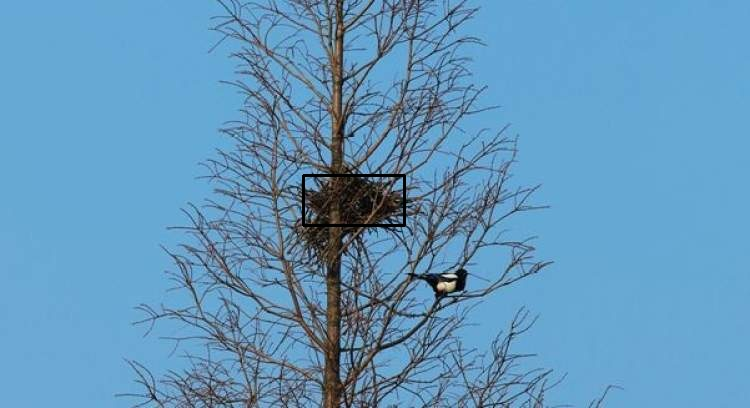bird-nest: (303, 175, 404, 225)
